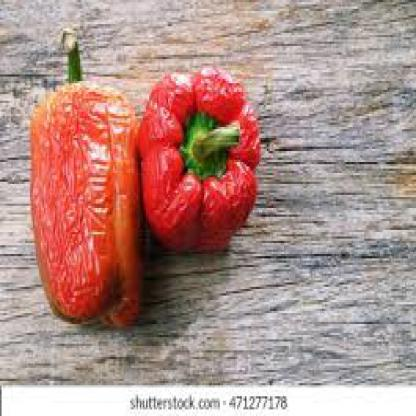capsicum_rotten: (22, 13, 152, 357)
